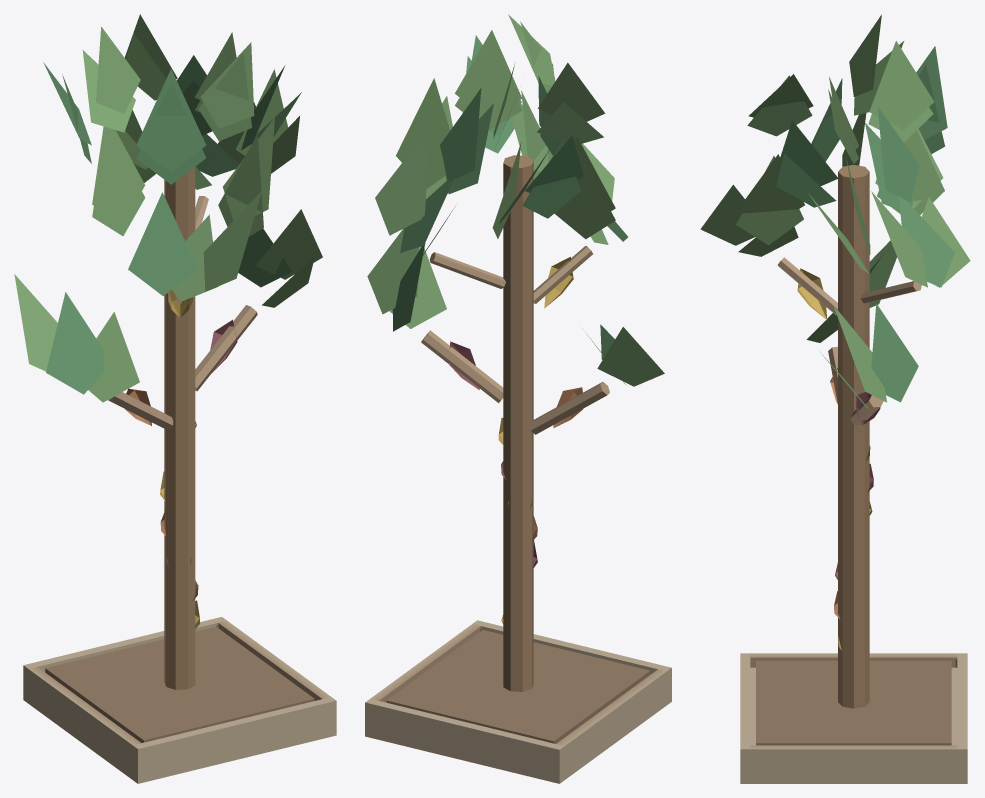
The model's file is cacao_cosecha_near.glb.
3 views of the same model, side by side, from view 1: azimuth 30°, elevation 25°; view 2: azimuth 150°, elevation 25°; view 3: azimuth 270°, elevation 25° (orthographic). The views are drawn at different scales.
Visible parts, largest first — view 1: model; view 2: model; view 3: model.
Part boxes in pixels (x1,y1,x2,y2): model: [14, 14, 336, 783]; model: [365, 14, 671, 783]; model: [700, 14, 970, 783].
Size of the model in its own units: 1.51 by 3.35 by 1.19.
